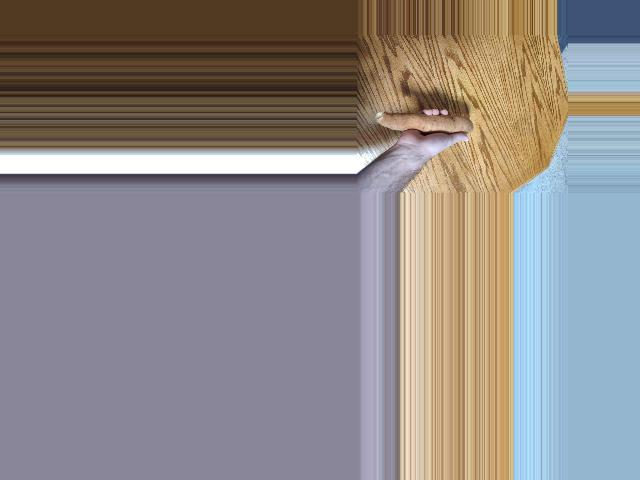sweet_potato: (374, 112, 469, 141)
